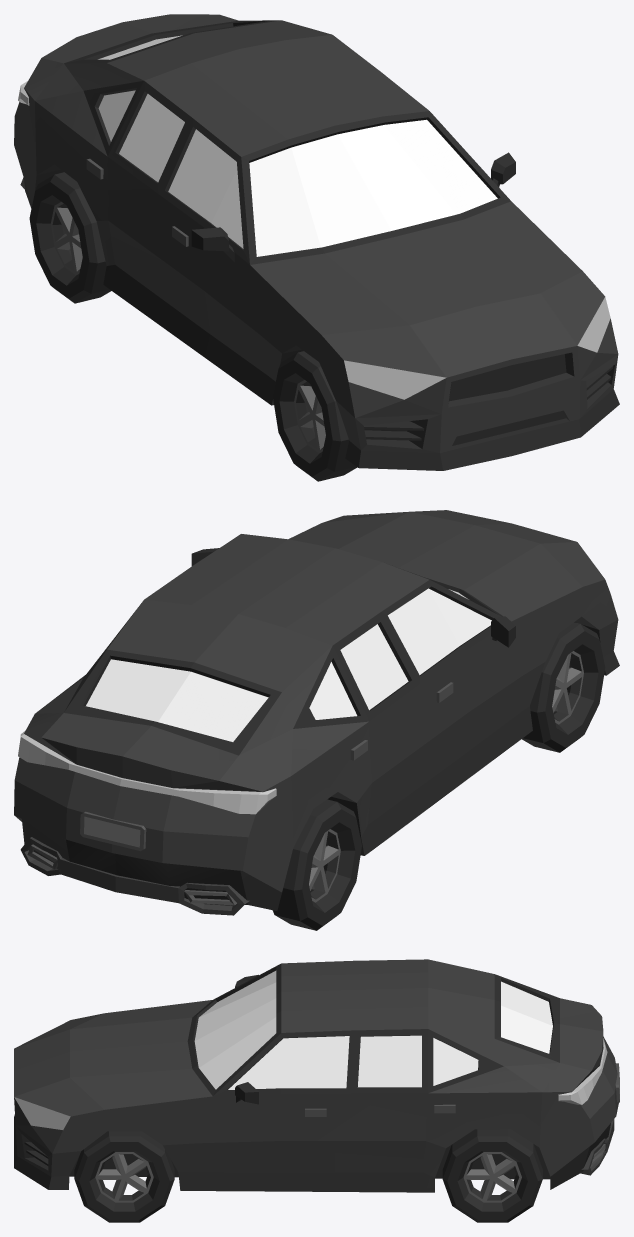
File: car3.obj
3 renders of one model, top to bottom at view 1: azimuth 30°, elevation 25°; view 2: azimuth 150°, elevation 25°; view 3: azimuth 270°, elevation 25°, orthographic. The views are drawn at different scales.
Visible parts, largest first — view 1: Cube.074, Cylinder.071, Cylinder.069, Cube.075, Cube.157; view 2: Cube.074, Cylinder.071, Cylinder.069, Cube.155, Cube.152, Cube.140, Cube.149, Cube.075; view 3: Cube.074, Cylinder.071, Cylinder.069, Cube.152, Cube.075, Cube.155, Cube.100.
Part boxes in pixels (bbox=[...]): Cube.074: bbox=[14, 14, 619, 470]; Cylinder.071: bbox=[29, 172, 111, 303]; Cylinder.069: bbox=[272, 351, 357, 481]; Cube.075: bbox=[191, 152, 515, 261]; Cube.157: bbox=[364, 374, 611, 440]; Cube.074: bbox=[14, 510, 619, 910]; Cylinder.071: bbox=[272, 799, 361, 930]; Cylinder.069: bbox=[522, 622, 605, 752]; Cube.155: bbox=[20, 837, 249, 915]; Cube.152: bbox=[18, 730, 276, 814]; Cube.140: bbox=[80, 811, 146, 851]; Cube.149: bbox=[27, 844, 236, 905]; Cube.075: bbox=[191, 548, 515, 647]; Cube.074: bbox=[14, 959, 618, 1192]; Cylinder.071: bbox=[442, 1129, 542, 1222]; Cylinder.069: bbox=[74, 1131, 174, 1222]; Cube.152: bbox=[558, 1038, 607, 1104]; Cube.075: bbox=[235, 974, 258, 1104]; Cube.155: bbox=[580, 1119, 614, 1175]; Cube.100: bbox=[305, 1104, 455, 1116].
Size of the model in its own units: 2.35 by 1.74 by 5.14.
